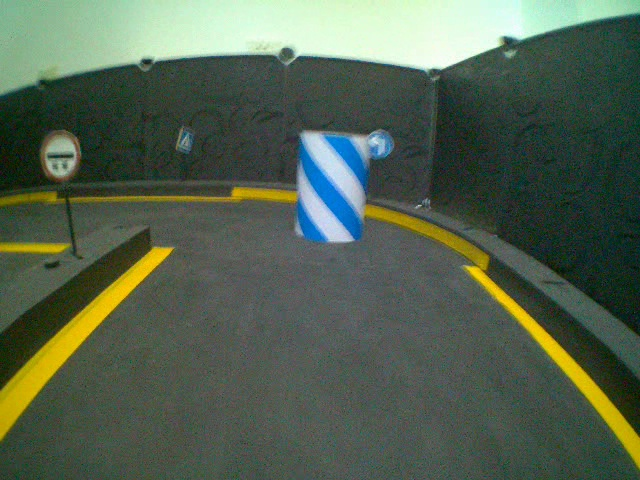bucket: (290, 128, 372, 246)
